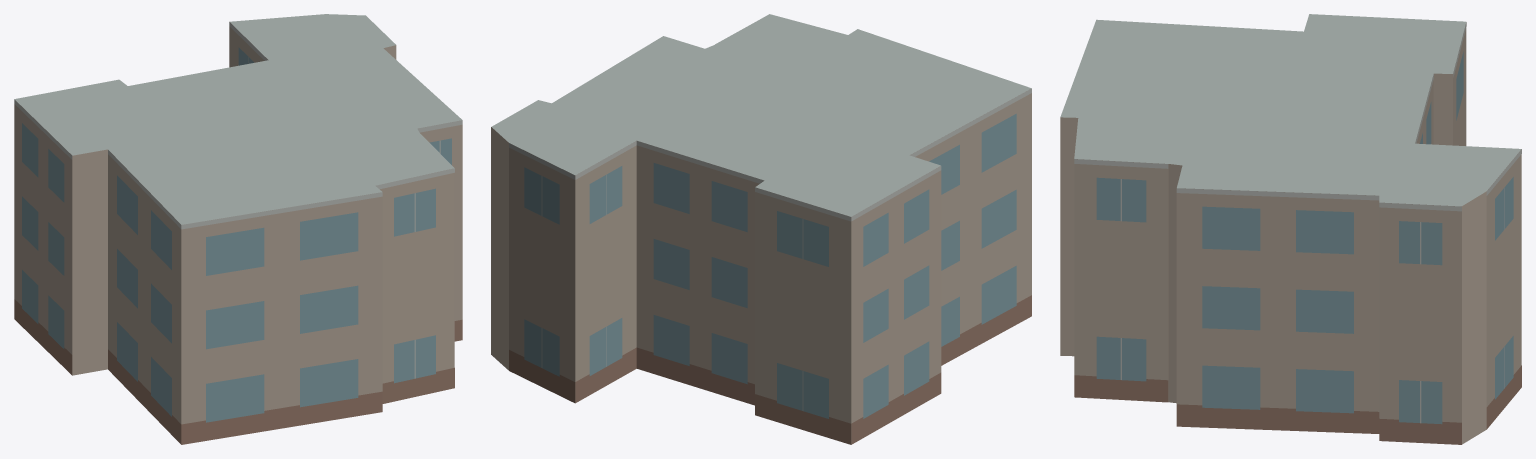
File: survey-upis-32497912.glb
3 views of the same model, side by side, from view 1: azimuth 30°, elevation 25°; view 2: azimuth 150°, elevation 25°; view 3: azimuth 270°, elevation 25° (orthographic). The views are drawn at different scales.
Visible parts, largest first — view 1: survey-upis-32497912.tmp; view 2: survey-upis-32497912.tmp; view 3: survey-upis-32497912.tmp.
Part boxes in pixels (x1=…): survey-upis-32497912.tmp: x1=14, y1=14, x2=462, y2=444; survey-upis-32497912.tmp: x1=491, y1=14, x2=1031, y2=444; survey-upis-32497912.tmp: x1=1060, y1=14, x2=1521, y2=444.
Size of the model in its own units: 20.56 by 11.87 by 20.83.
